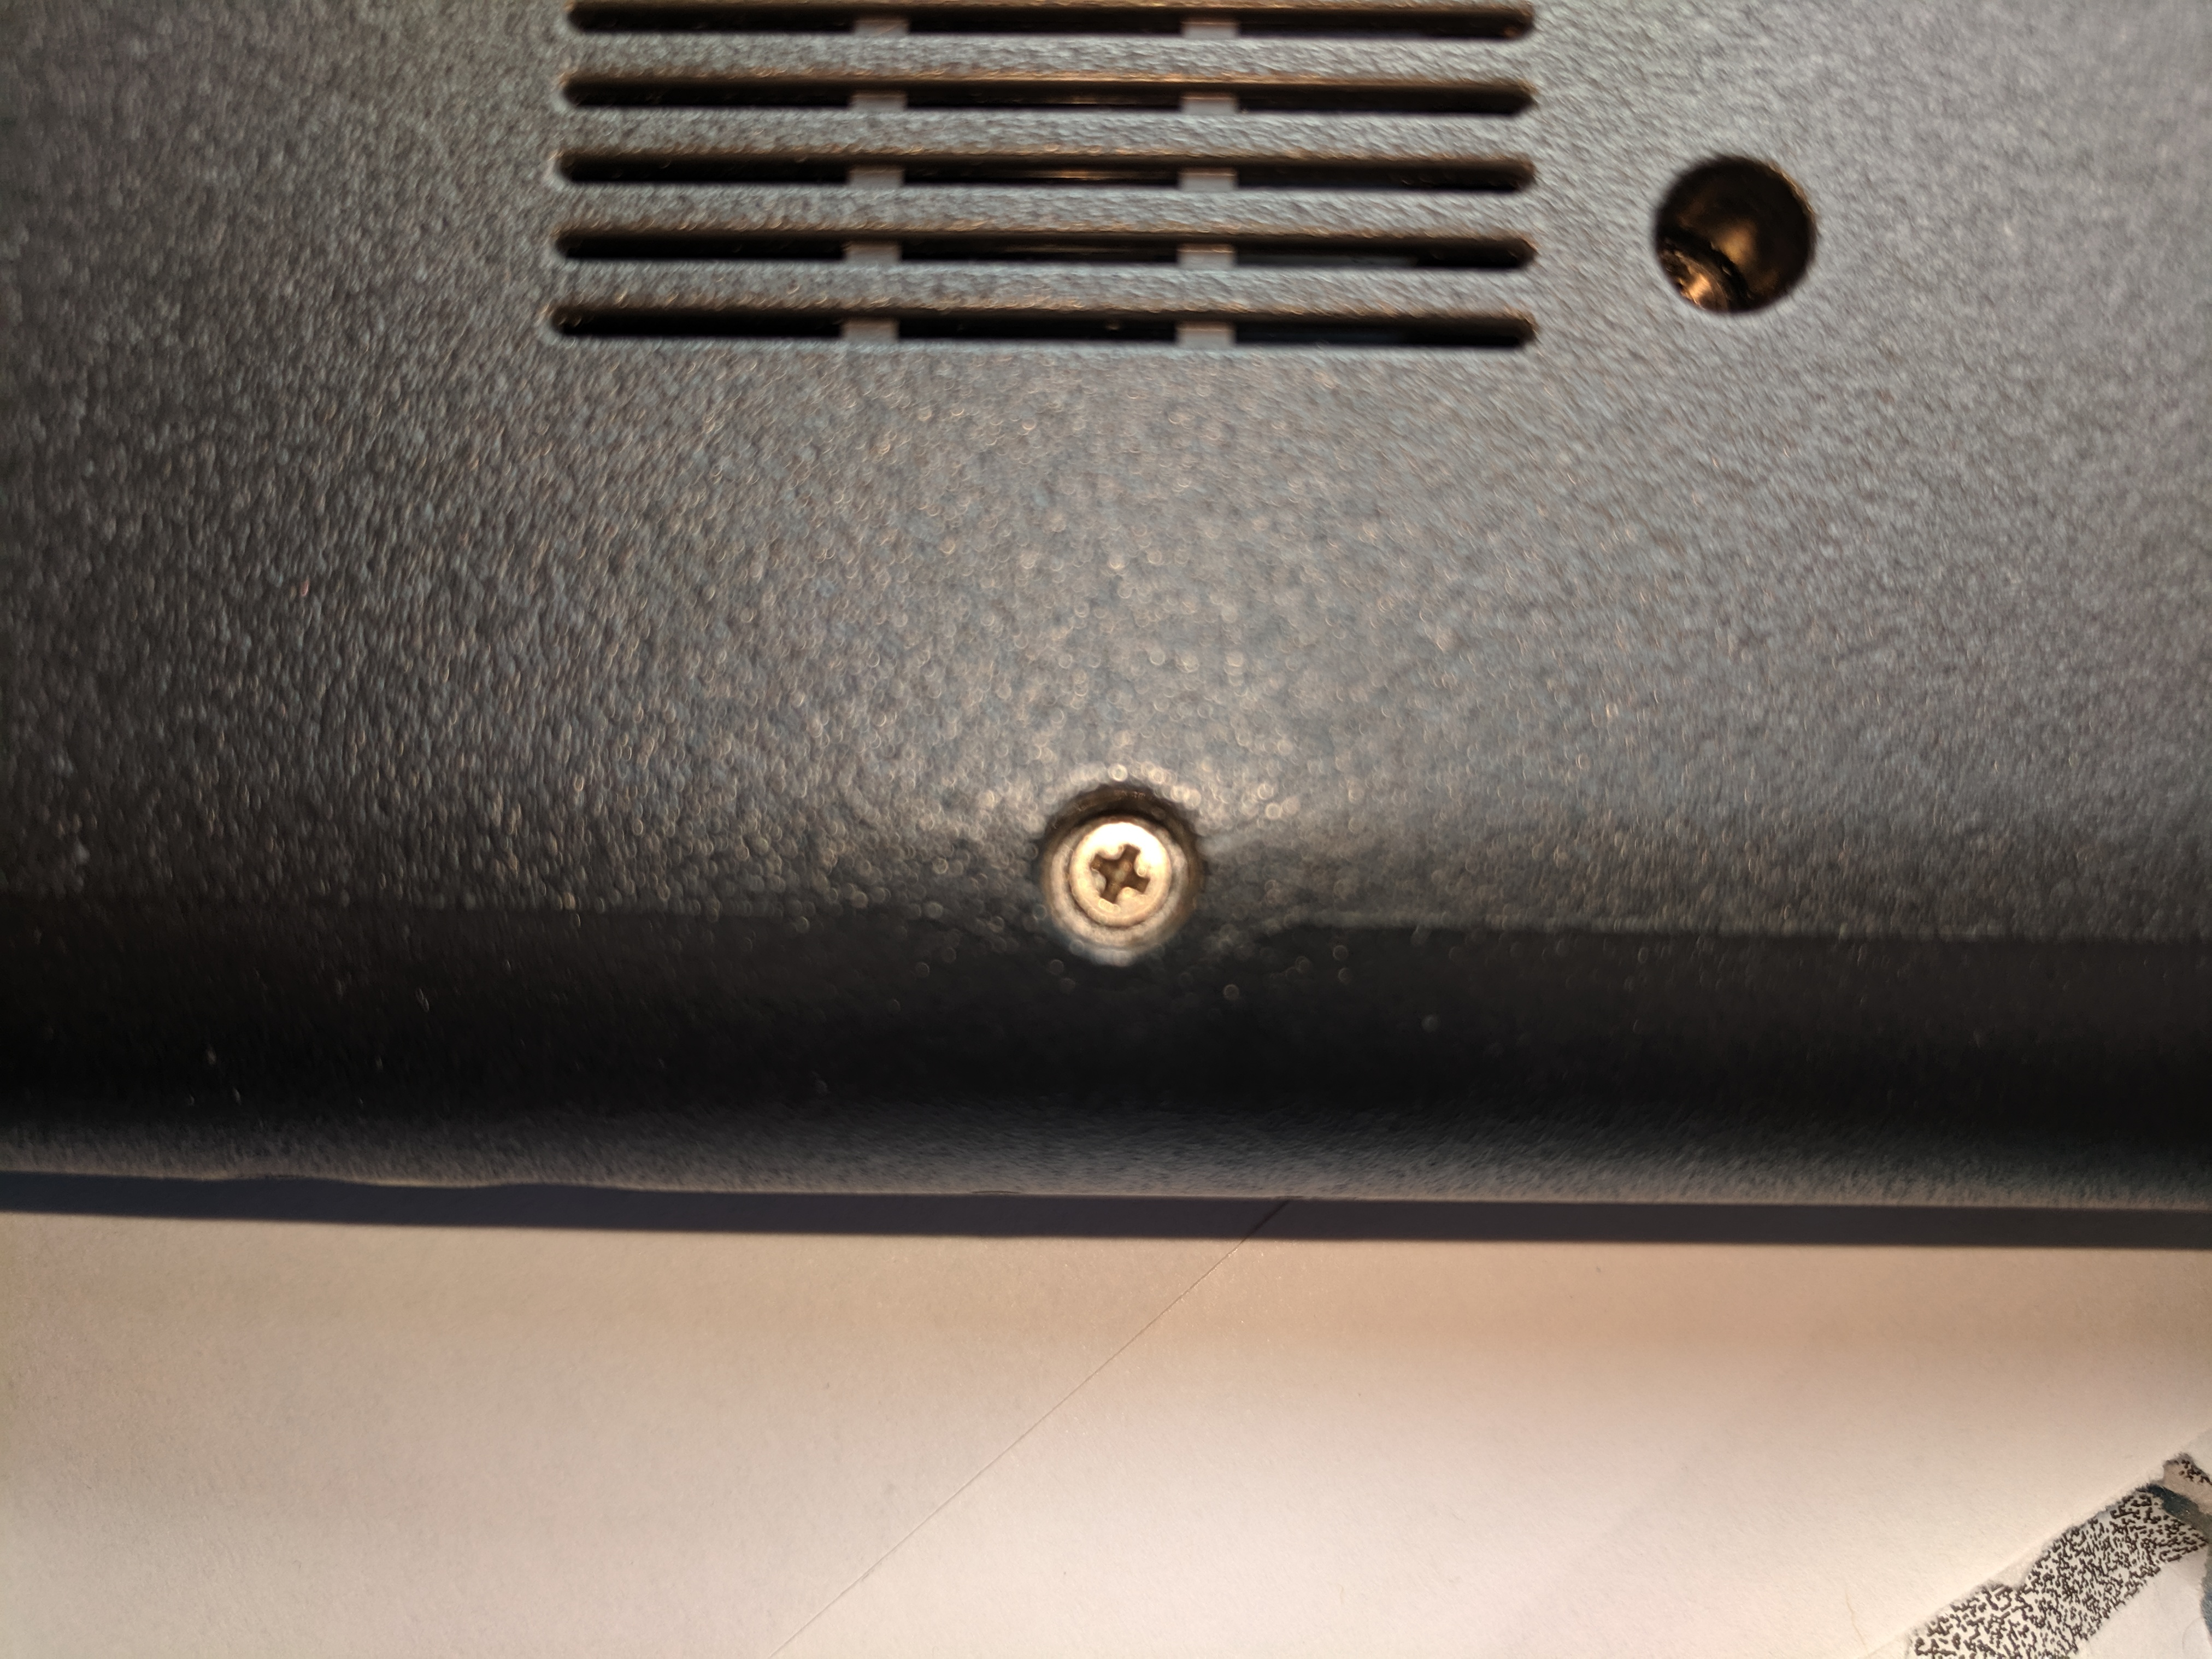cross_recessed_screw: (1040, 793, 1190, 938)
